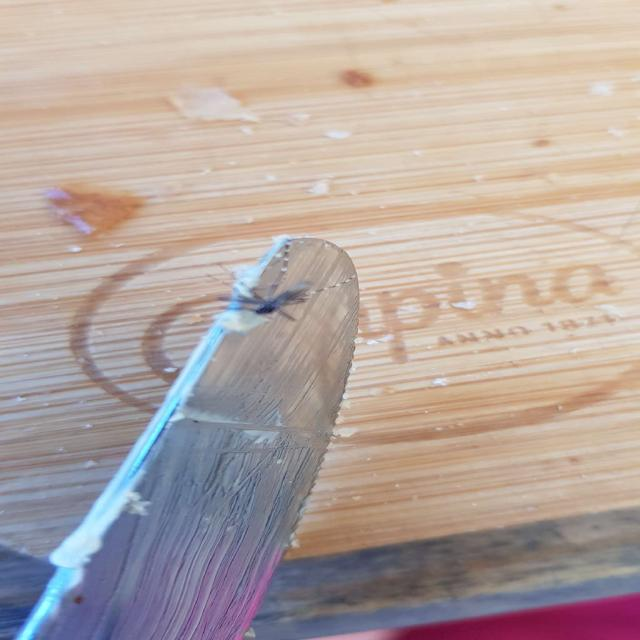albopictus: (180, 234, 358, 351)
